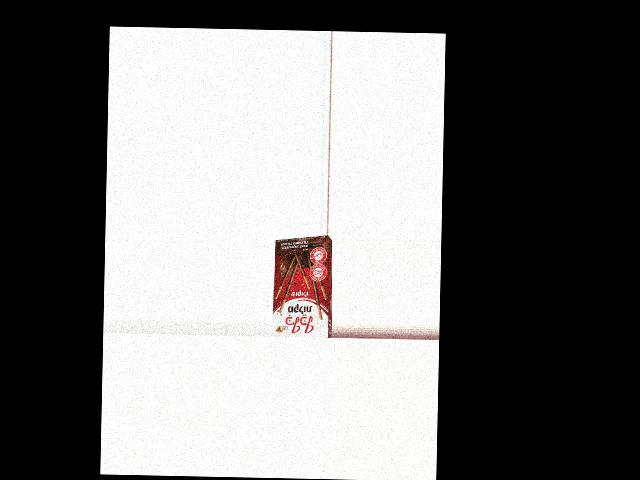chocolate: (271, 241, 332, 337)
